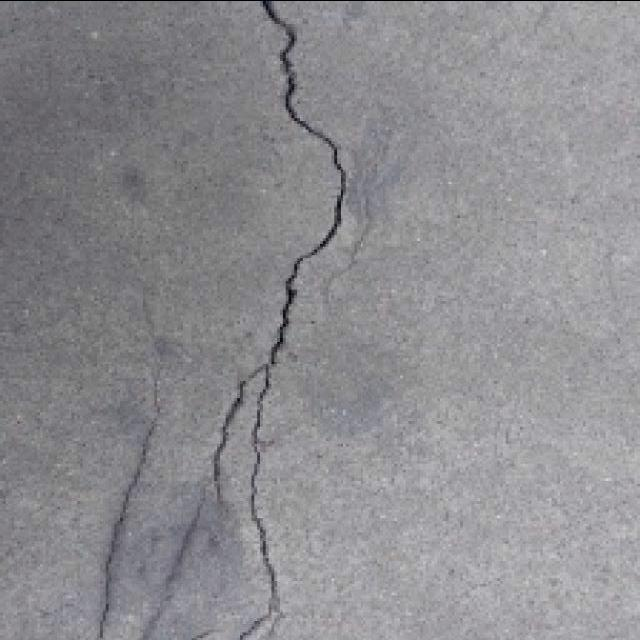SurfaceCrack: (218, 0, 374, 640)
